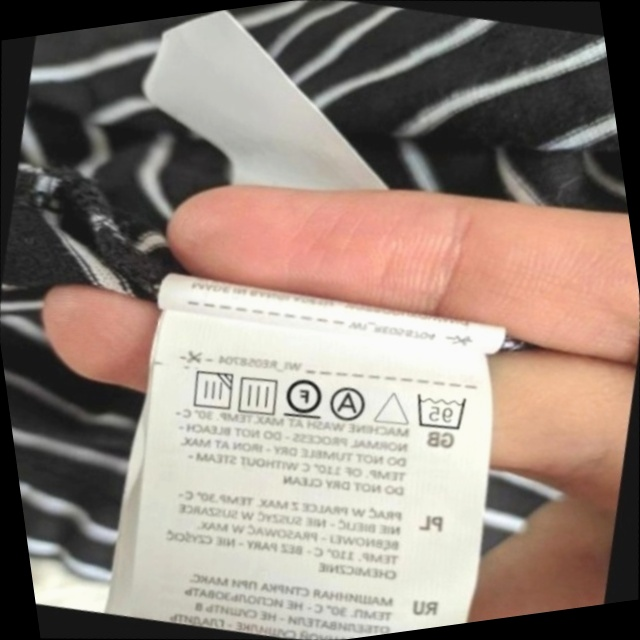95C: (402, 377, 479, 445)
bleach: (365, 377, 421, 437)
drip_dry: (225, 362, 291, 427)
drip_dry_in_shade: (177, 357, 244, 424)
dry_clean: (320, 375, 378, 432)
dry_clean_petrol_only: (272, 364, 335, 430)
